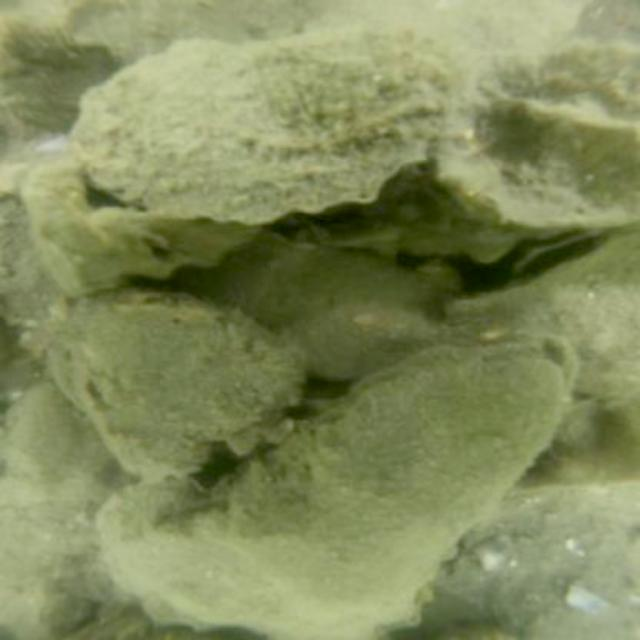Oyster-Closed: (181, 338, 583, 620), (70, 20, 491, 216), (91, 469, 424, 638), (43, 292, 303, 475), (450, 229, 636, 414), (434, 74, 638, 233), (232, 246, 448, 373)
Oyster-Open: (15, 149, 271, 305), (509, 223, 611, 278)
